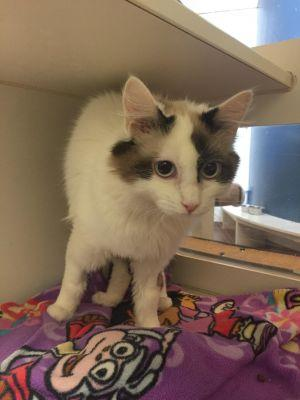ragdoll: (96, 60, 274, 241)
